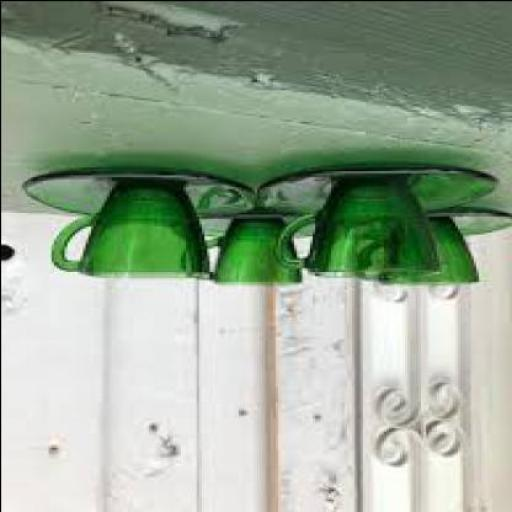glass: (278, 180, 446, 279), (53, 184, 210, 279), (255, 166, 499, 216), (27, 166, 259, 216), (186, 216, 304, 282), (369, 217, 480, 285), (374, 209, 511, 239), (195, 210, 324, 239)
